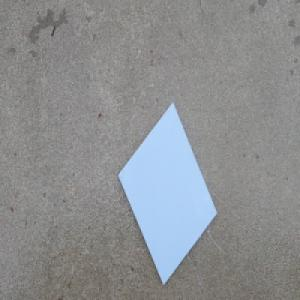PaintChip: (117, 100, 218, 287)
